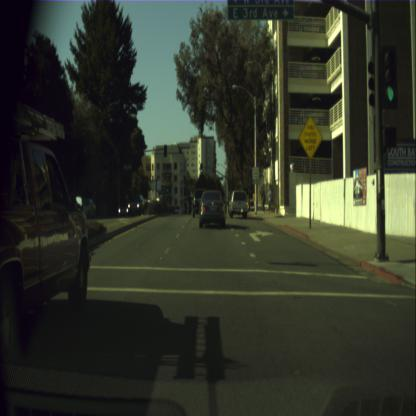Green: (380, 44, 396, 106), (200, 163, 202, 173)
